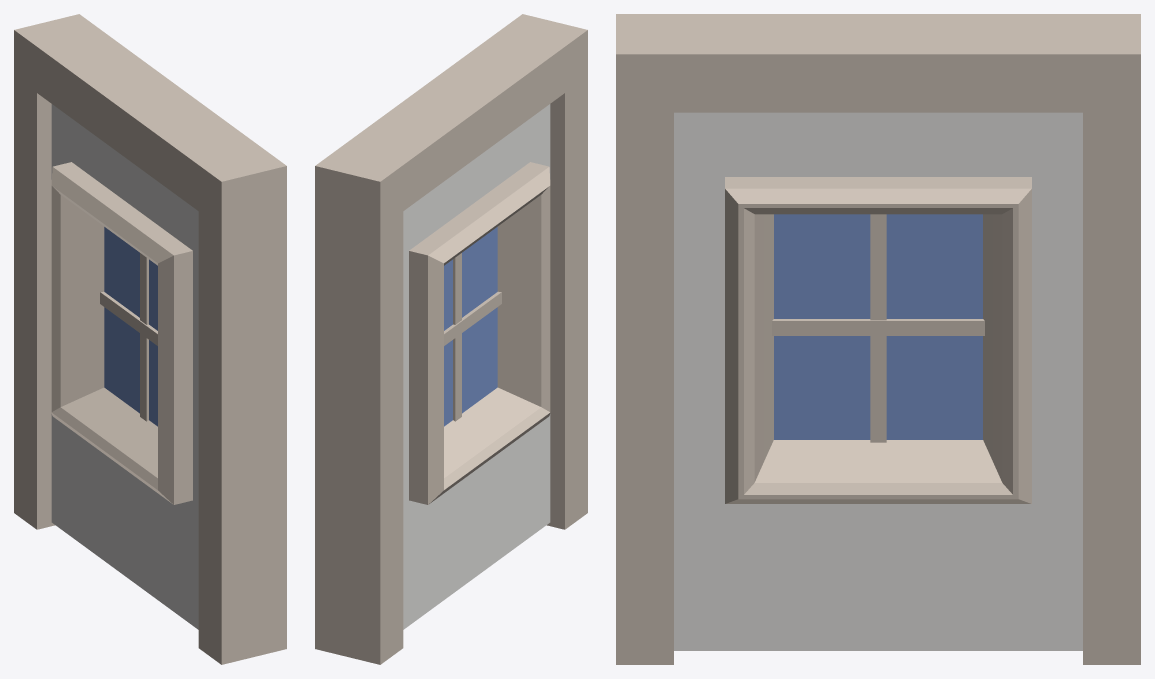
Rendered from Window_house01.fbx.
The picture shows the model from 3 angles, left to right: view 1: azimuth 30°, elevation 25°; view 2: azimuth 150°, elevation 25°; view 3: azimuth 270°, elevation 25°; orthographic projection. The views are drawn at different scales.
Parts seen in each view (by area): view 1: Window_house01; view 2: Window_house01; view 3: Window_house01.
Part boxes in pixels (bbox=[...]): Window_house01: bbox=[14, 14, 286, 664]; Window_house01: bbox=[315, 14, 587, 664]; Window_house01: bbox=[616, 14, 1140, 664].
Size of the model in its own units: 65.44 by 331 by 258.
